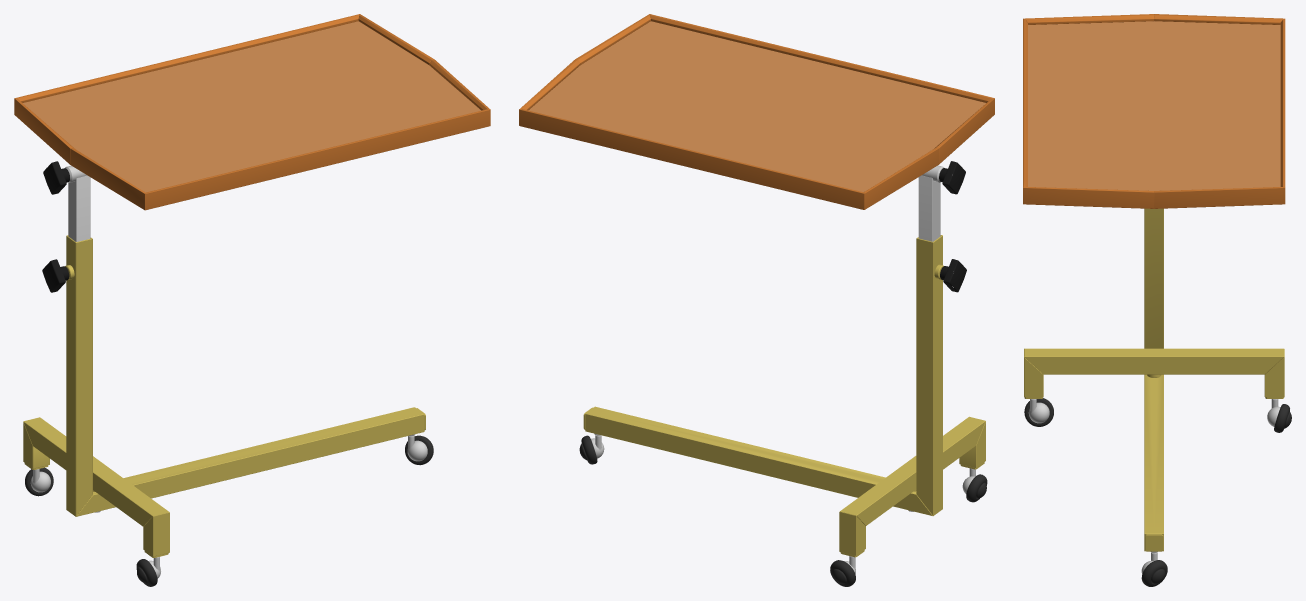
The model's file is pc-table-by-paolo-furani-1PfsqbJazUF.glb.
3 renders of one model, left to right at view 1: azimuth 30°, elevation 25°; view 2: azimuth 150°, elevation 25°; view 3: azimuth 270°, elevation 25°, orthographic.
Parts seen in each view (by area): view 1: Foglio-Formica, AssiemeCornice, Pro_30x30x2L615, Pro_30x30x2L460, Pro_30x30x2L395, Pro_25x25x2L368, Pro_30x30x2L68; view 2: Foglio-Formica, AssiemeCornice, Pro_30x30x2L615, Pro_30x30x2L460, Pro_30x30x2L395, Pro_25x25x2L368, Pro_30x30x2L68.001_Pro_30x30x2L68; view 3: Foglio-Formica, AssiemeCornice, Pro_30x30x2L395, Pro_30x30x2L615, Pro_30x30x2L460, Pro_30x30x2L68.001_Pro_30x30x2L68, Pro_30x30x2L68, GammaRuota, CorpoRuota.002_CorpoRuota, GammaRuota.001_GammaRuota.
Boxes of the visible parts, box(x1,y1,x2,y2) form: Foglio-Formica: box(23, 21, 480, 192); AssiemeCornice: box(14, 14, 490, 210); Pro_30x30x2L615: box(76, 407, 424, 516); Pro_30x30x2L460: box(66, 235, 92, 516); Pro_30x30x2L395: box(23, 417, 169, 526); Pro_25x25x2L368: box(68, 175, 90, 241); Pro_30x30x2L68: box(143, 512, 169, 556); Foglio-Formica: box(528, 21, 985, 192); AssiemeCornice: box(519, 14, 994, 209); Pro_30x30x2L615: box(585, 406, 932, 515); Pro_30x30x2L460: box(916, 235, 942, 515); Pro_30x30x2L395: box(840, 416, 985, 525); Pro_25x25x2L368: box(918, 175, 940, 241); Pro_30x30x2L68.001_Pro_30x30x2L68: box(839, 512, 865, 555); Foglio-Formica: box(1028, 21, 1280, 190); AssiemeCornice: box(1023, 14, 1285, 208); Pro_30x30x2L395: box(1024, 348, 1284, 374); Pro_30x30x2L615: box(1144, 374, 1163, 551); Pro_30x30x2L460: box(1144, 208, 1163, 348); Pro_30x30x2L68.001_Pro_30x30x2L68: box(1264, 349, 1284, 397); Pro_30x30x2L68: box(1024, 357, 1043, 397); GammaRuota: box(1141, 560, 1167, 586); CorpoRuota.002_CorpoRuota: box(1028, 399, 1049, 423); GammaRuota.001_GammaRuota: box(1274, 404, 1291, 432).
Bounding box in the file's own units: 0.6755 × 0.6718 × 0.4072.
